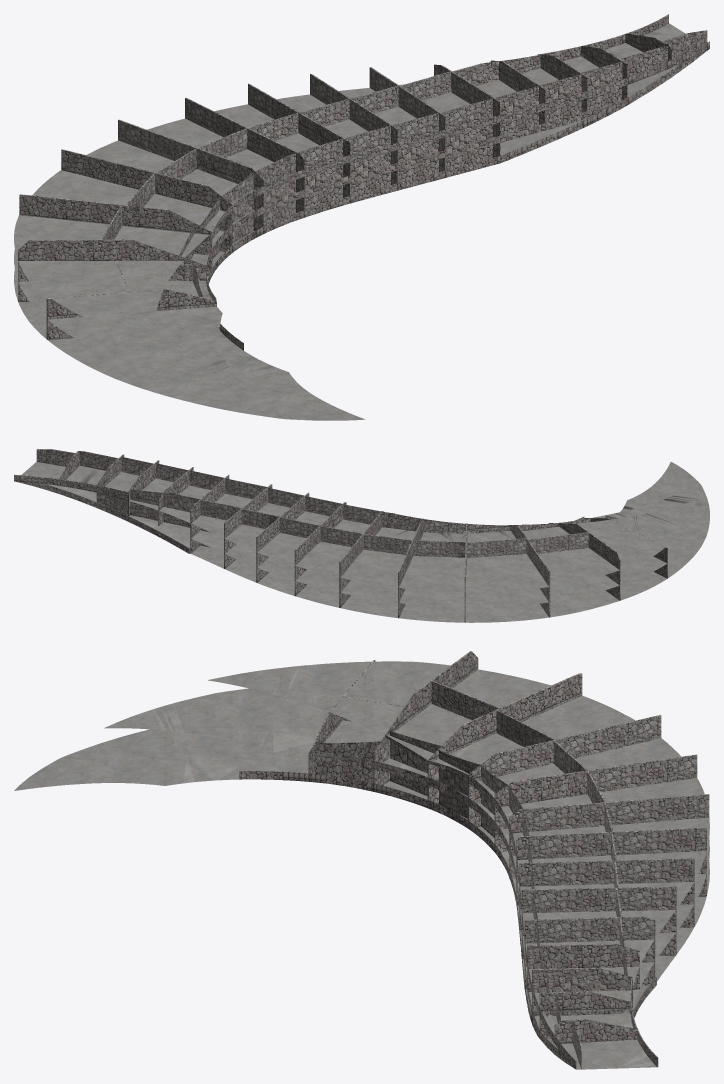
The picture shows the model from 3 angles, top to bottom: view 1: azimuth 30°, elevation 25°; view 2: azimuth 150°, elevation 25°; view 3: azimuth 270°, elevation 25°; orthographic projection. The views are drawn at different scales.
Parts seen in each view (by area): view 1: LXZ81003, LXZ81002; view 2: LXZ81002, LXZ81003; view 3: LXZ81003, LXZ81002.
Boxes of the visible parts, x1,y1,x2,y2 form: LXZ81003: [18, 14, 709, 350]; LXZ81002: [14, 23, 685, 420]; LXZ81002: [21, 461, 709, 622]; LXZ81003: [14, 449, 667, 622]; LXZ81003: [239, 651, 709, 1069]; LXZ81002: [14, 661, 709, 1069].
Bounding box in the file's own units: 116 × 83.16 × 9.
2 materials, 2 textured.
